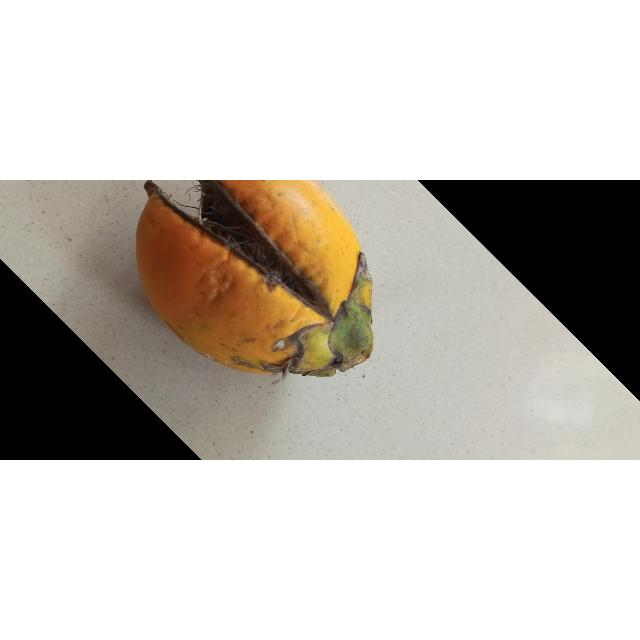damaged: (133, 180, 375, 379)
